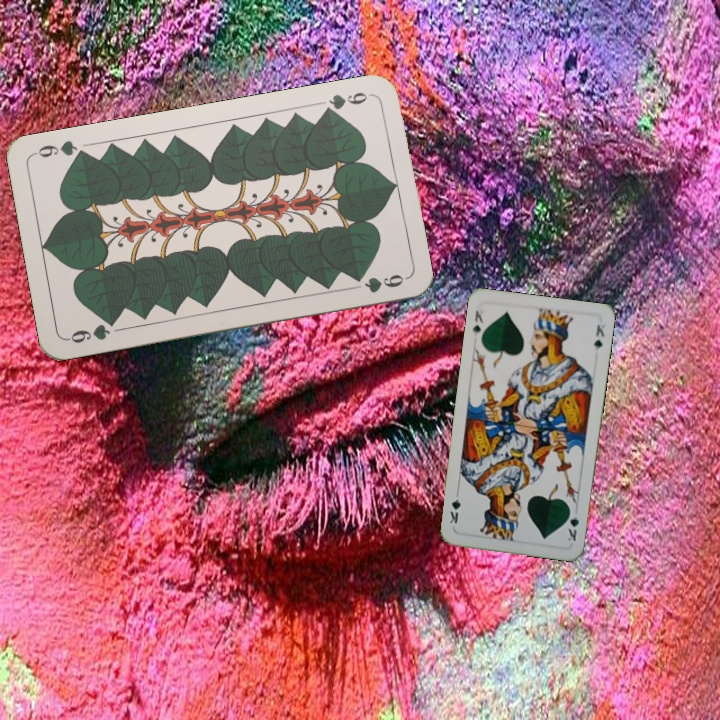G9: (63, 315, 120, 346), (316, 88, 375, 117)
GK: (562, 504, 581, 544), (469, 306, 486, 338)
